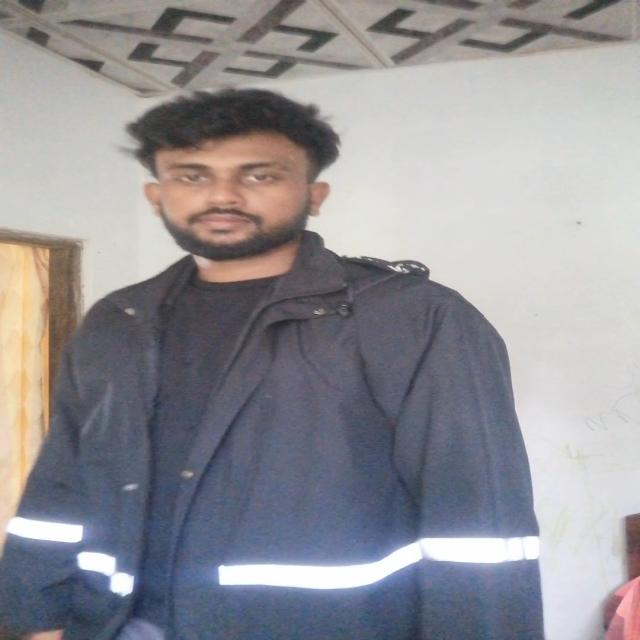Jacket_Wearer: (30, 248, 547, 640)
